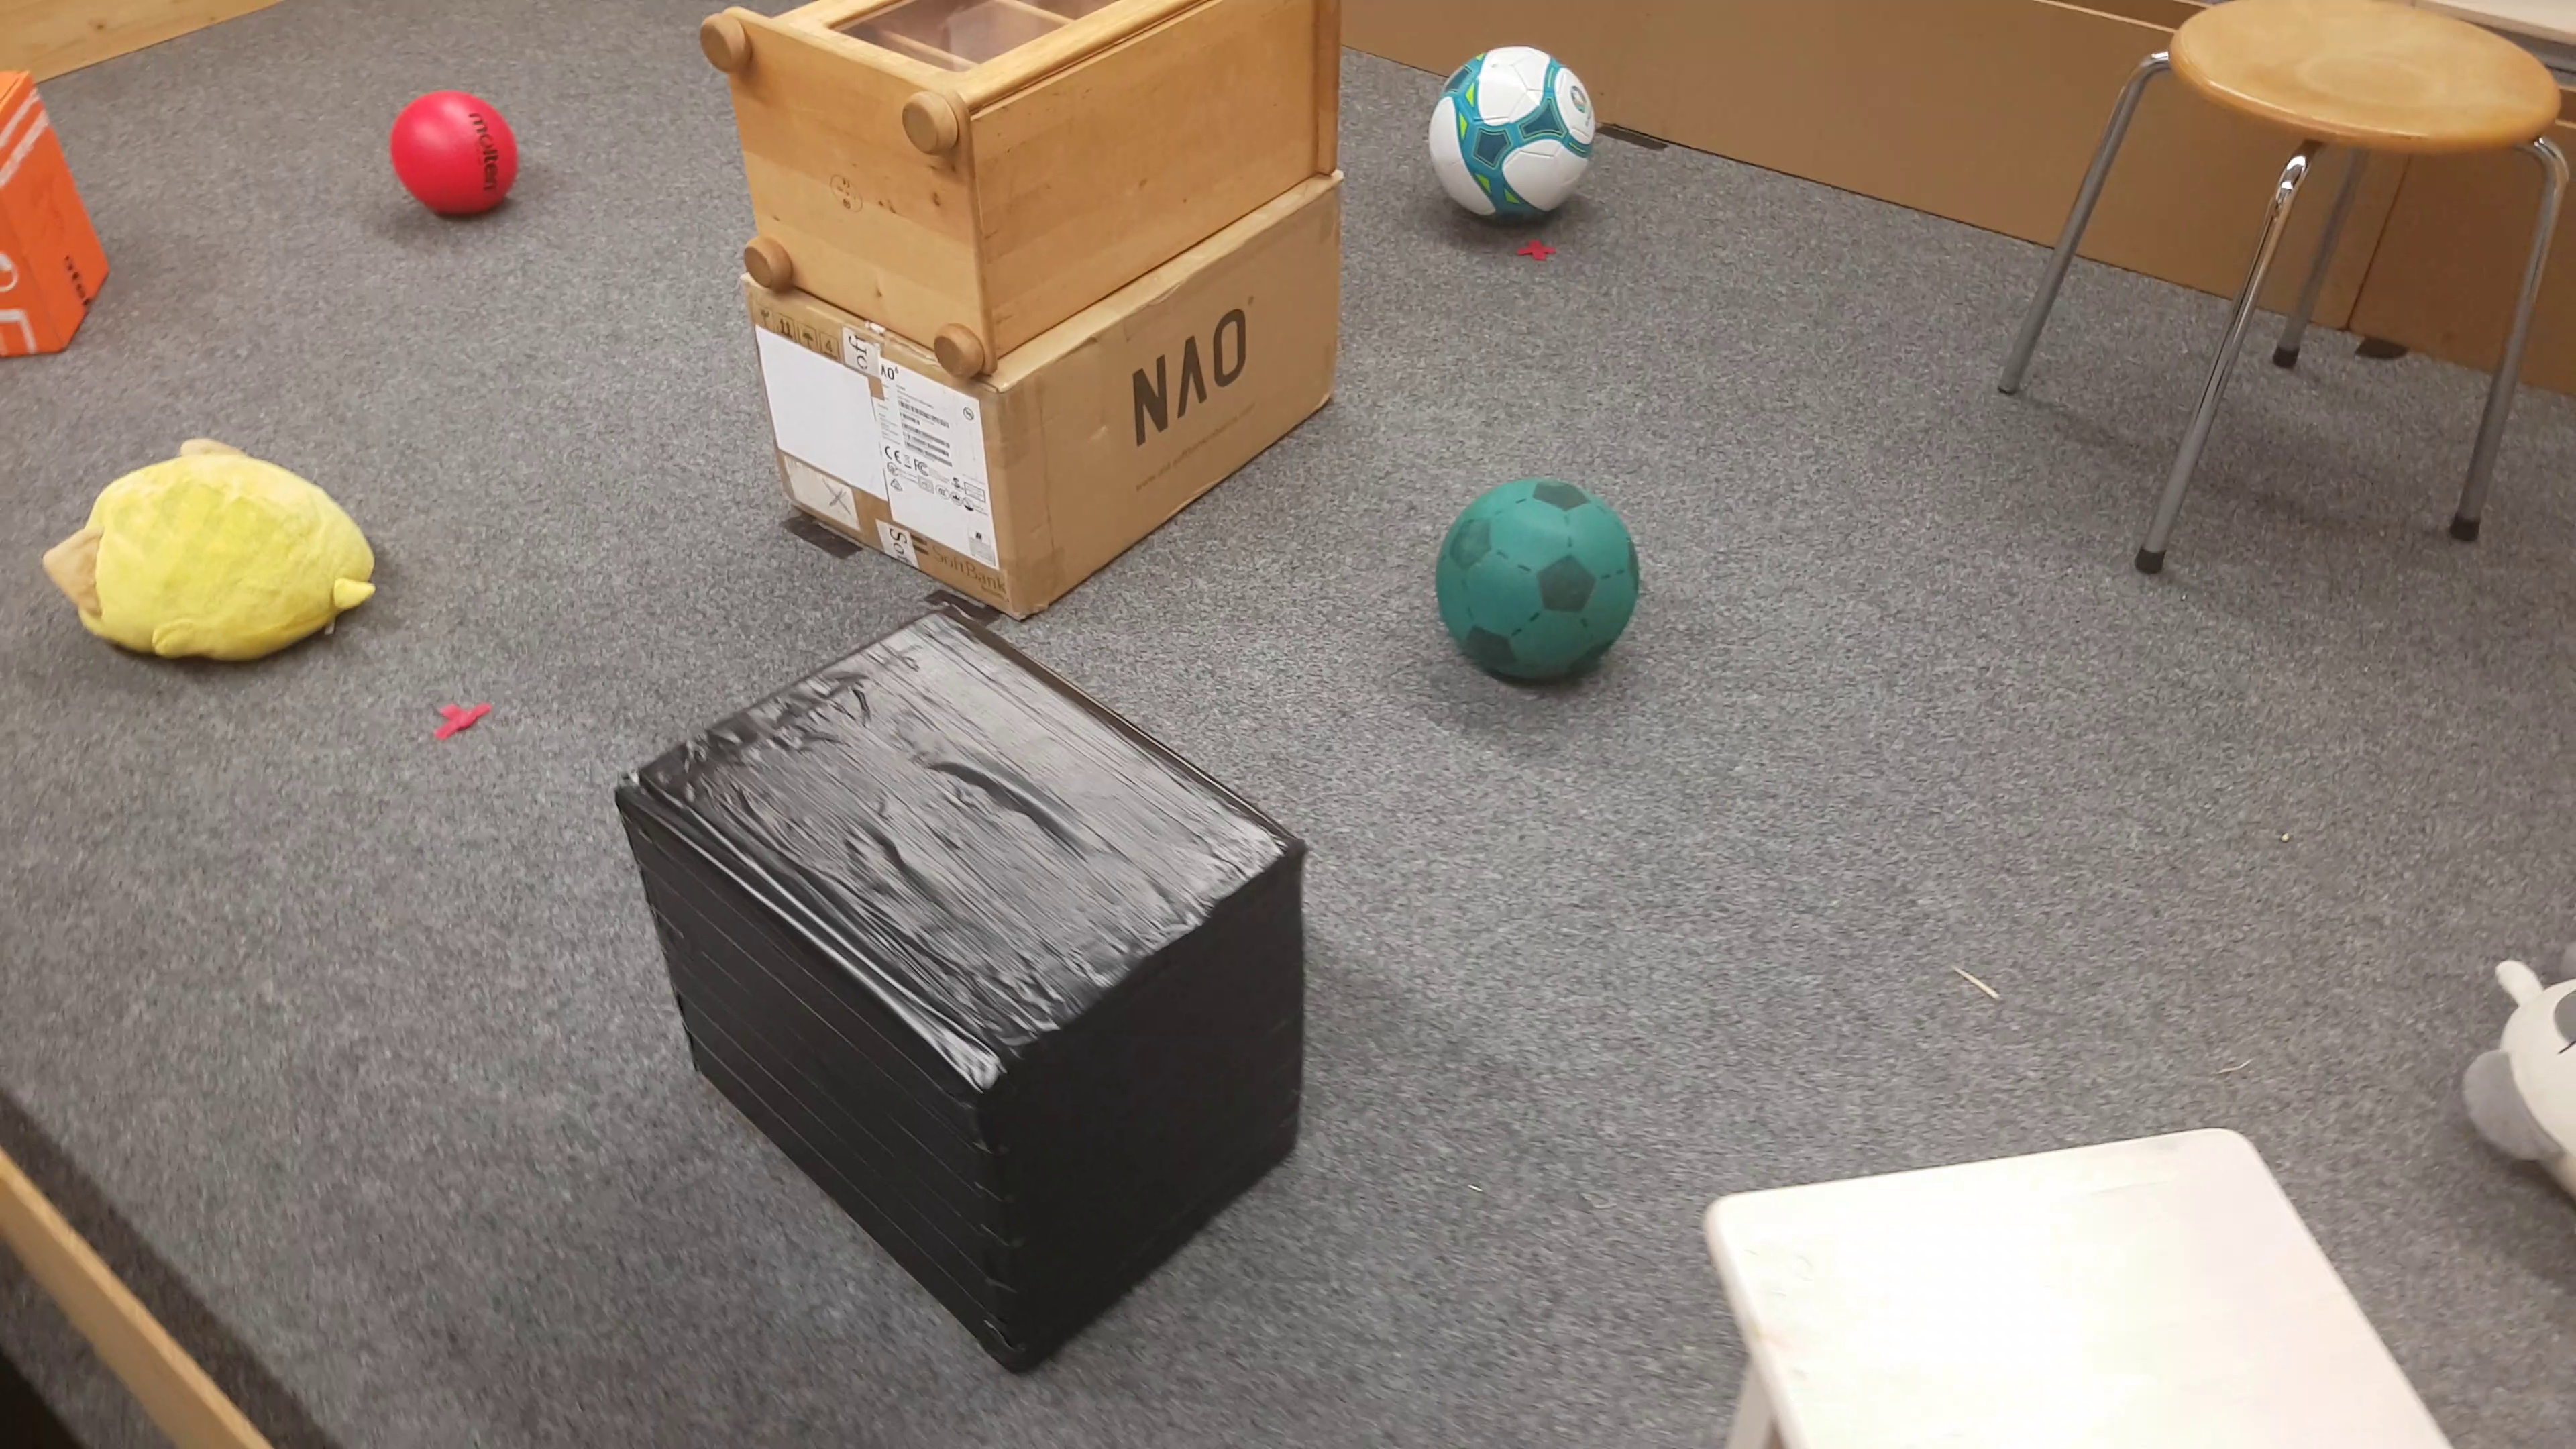grasp: (41, 441, 370, 665), (2468, 931, 2576, 1215)
kick: (1440, 483, 1647, 697), (1430, 39, 1594, 230), (389, 92, 520, 214)
push: (630, 612, 1304, 1385), (0, 73, 110, 370)
